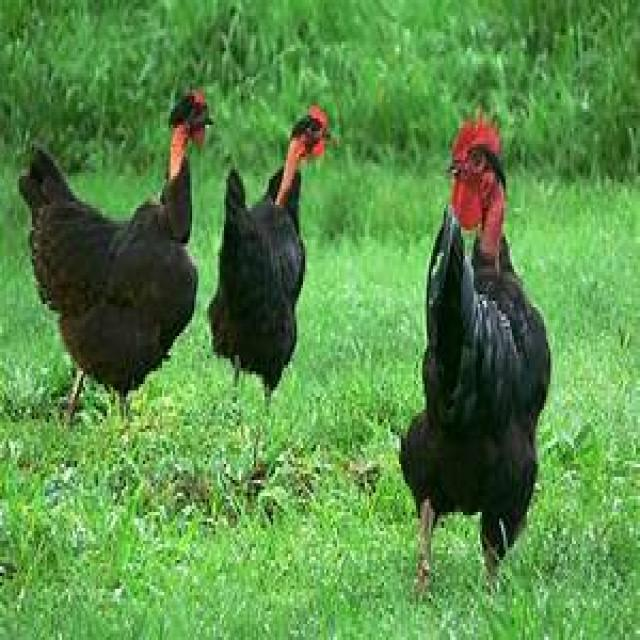hen: (399, 115, 555, 595), (17, 96, 205, 403), (207, 109, 329, 397)
